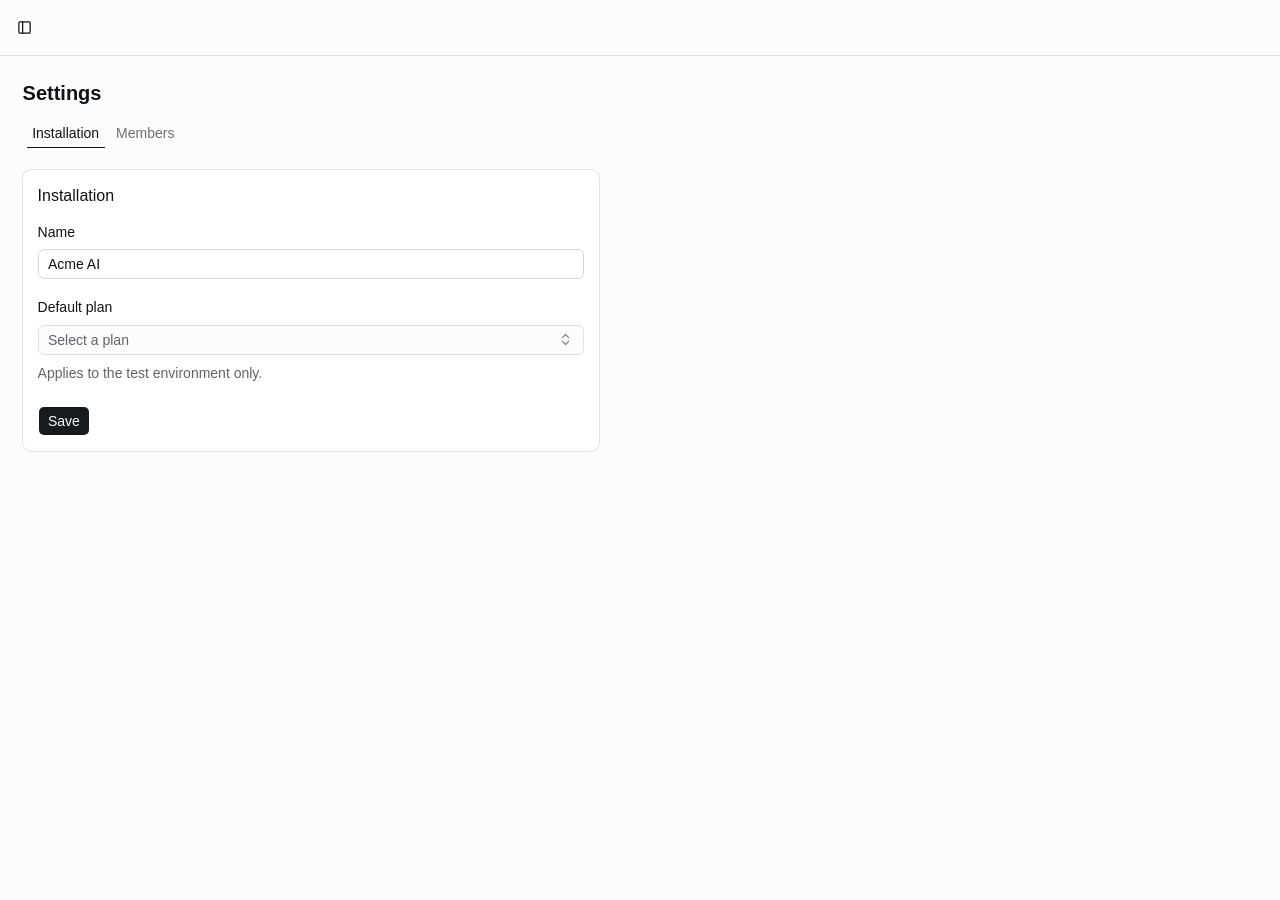
a plan that is no longer active shows plan_not_found in the form
The width and height of the screenshot is (1280, 900).
Click the button named "Default plan": coordinates (88, 340) [38, 325, 584, 355]
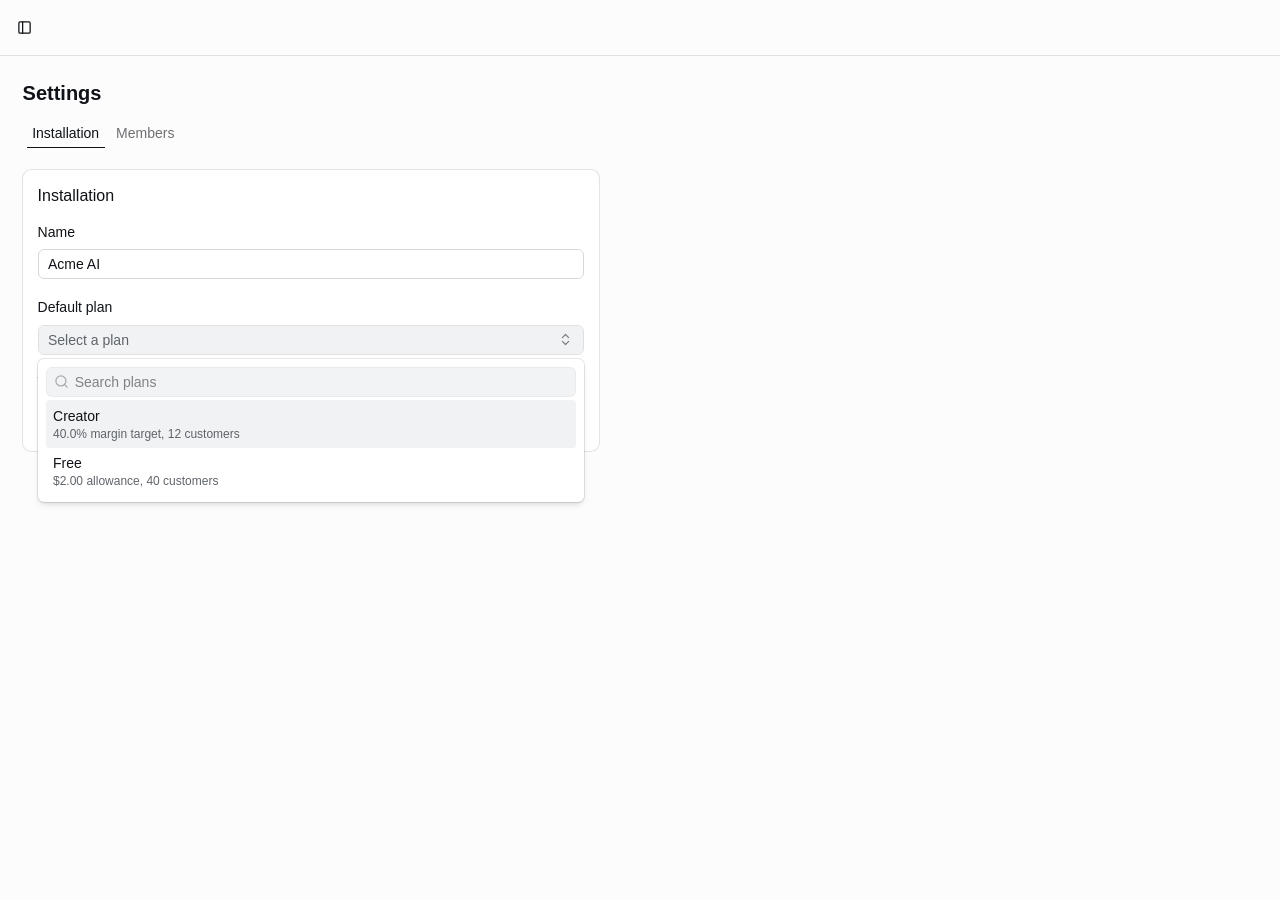
Click the option "Free $2.00 allowance, 40 customers": coordinates (136, 472) [53, 455, 218, 488]
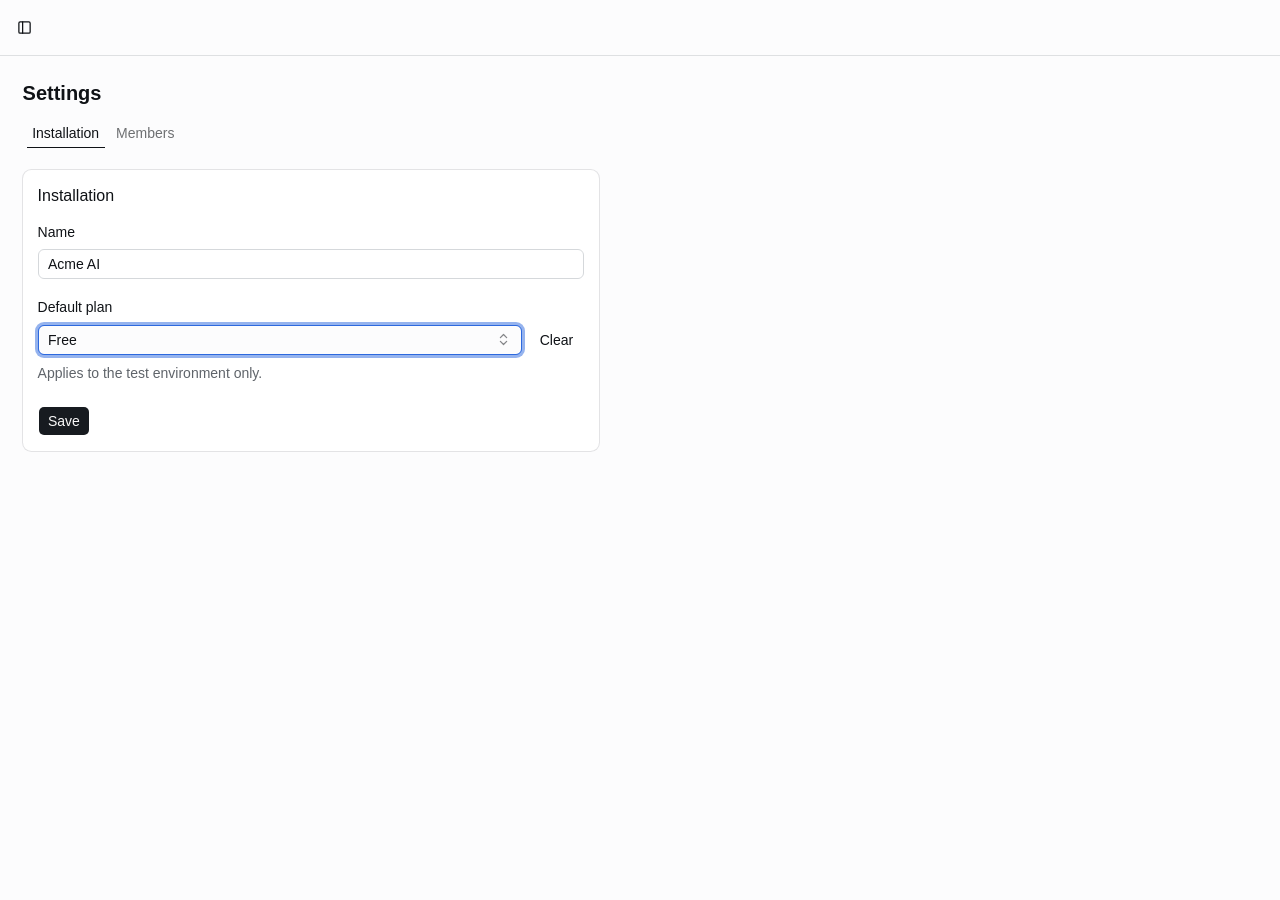
Click the button "Save": coordinates (64, 421) [38, 406, 90, 436]
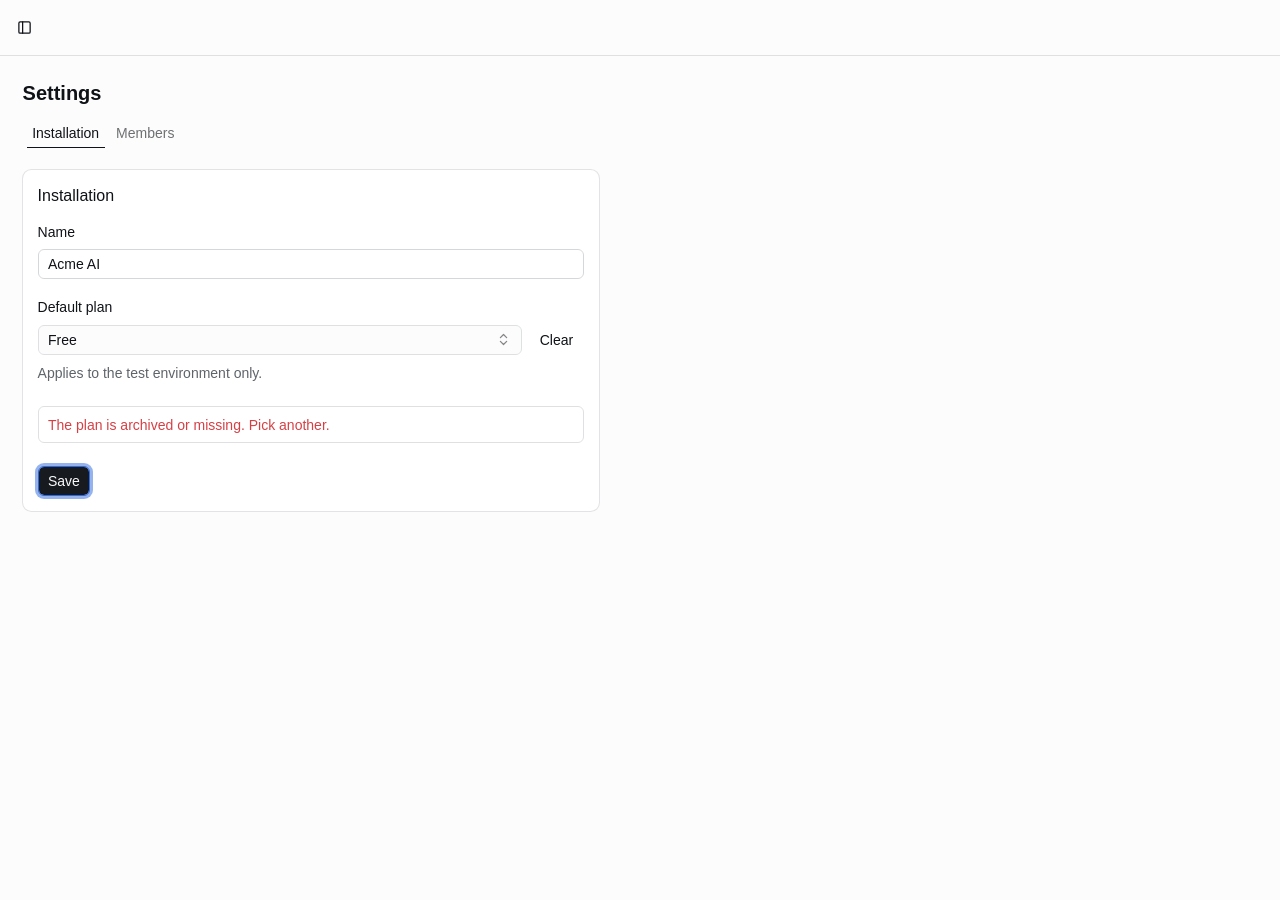
Result: the text "The plan is archived or missing. Pick another." is shown at [48, 417, 330, 433]
